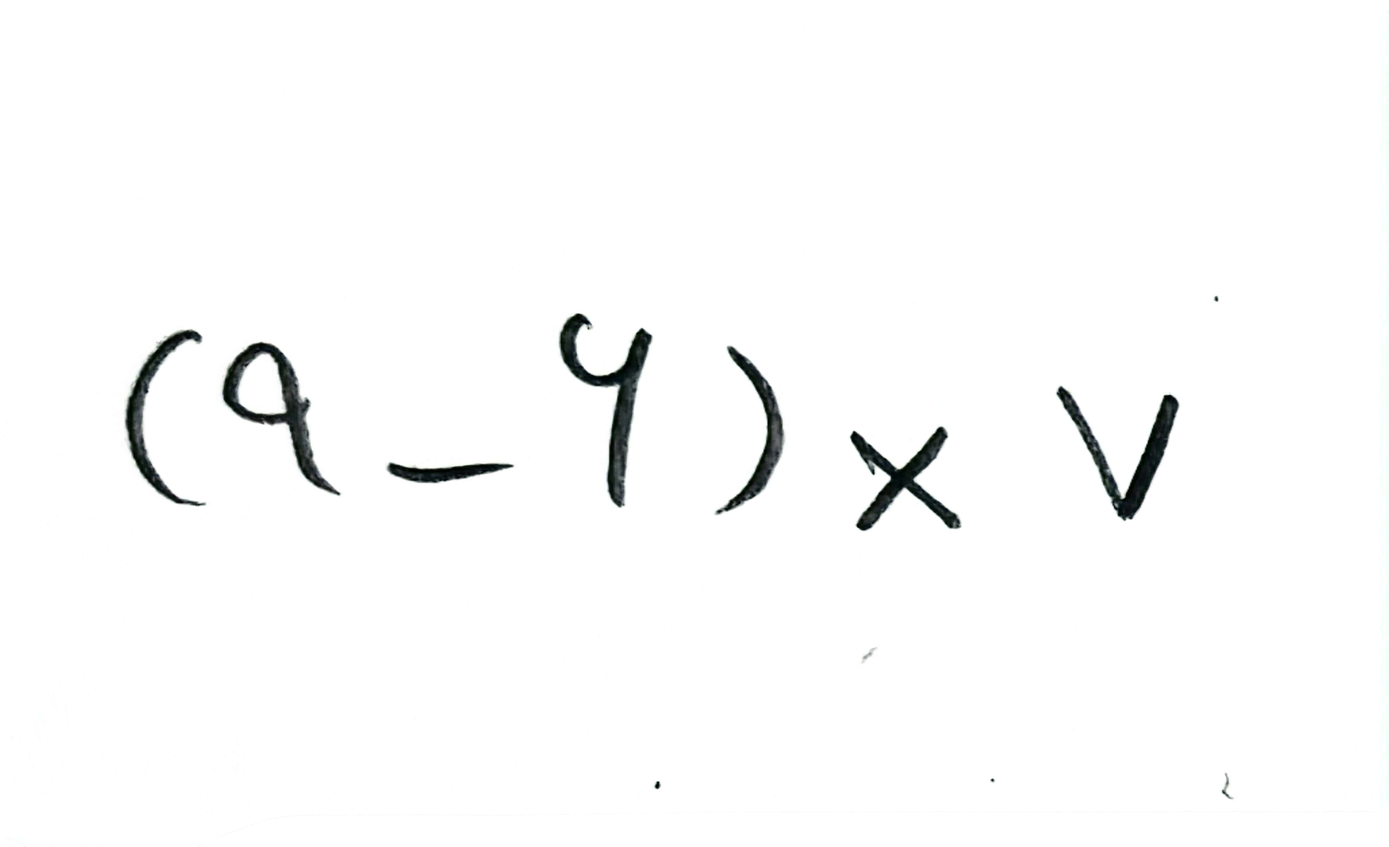character: (221, 342, 340, 498), (560, 313, 654, 507), (1056, 385, 1181, 522), (125, 329, 206, 505), (715, 345, 785, 515), (850, 426, 961, 530), (385, 460, 514, 484)
